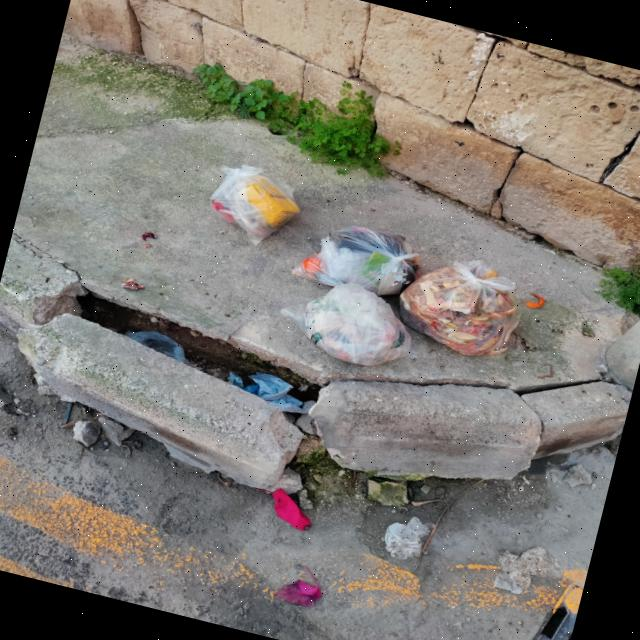Organic Waste: (388, 241, 532, 366), (272, 266, 422, 376), (290, 210, 424, 304), (201, 156, 307, 253)
